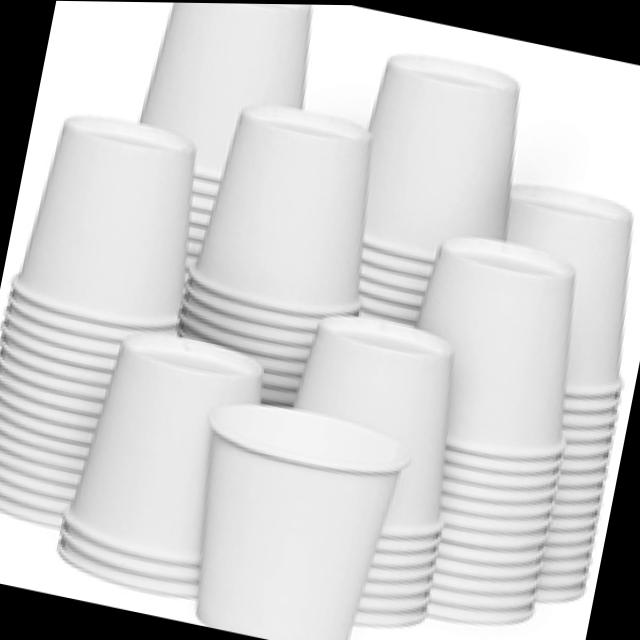paper_cups: (258, 301, 482, 638), (47, 312, 266, 605), (176, 93, 398, 375), (163, 388, 409, 640), (397, 225, 605, 508), (3, 102, 220, 356), (338, 38, 538, 291)
